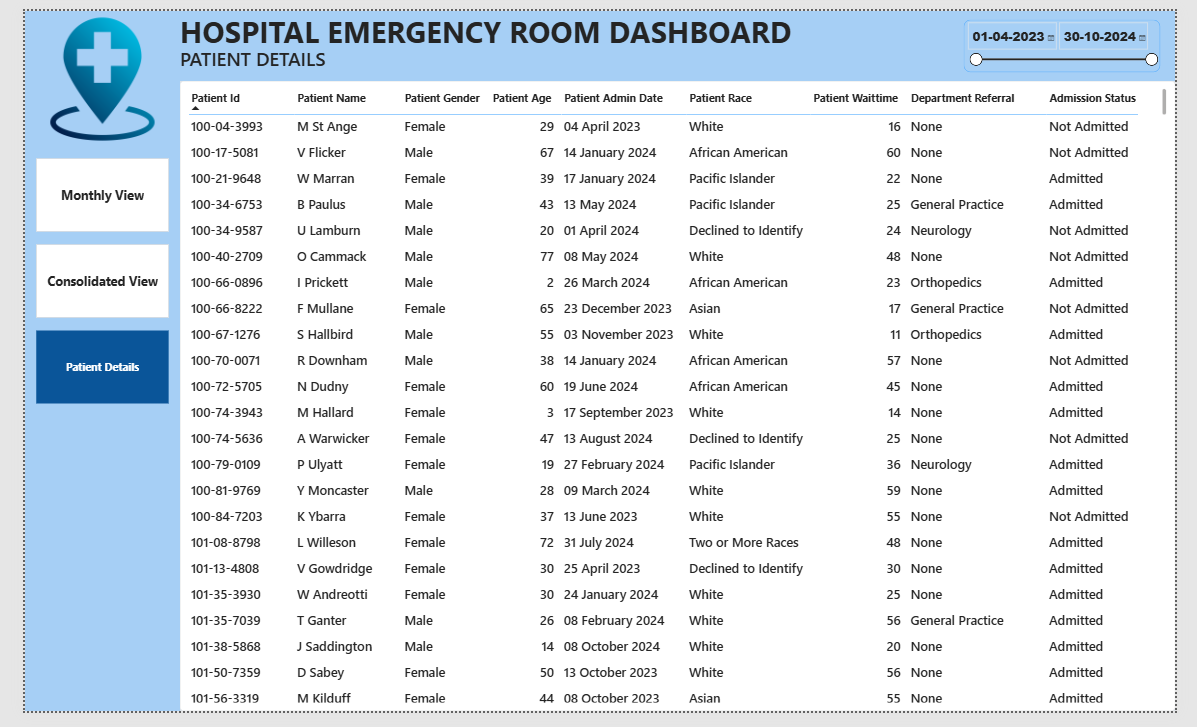

The dashboard page shown, as its layout file describes it:
{"tool":"powerbi","page":{"name":"Patient Details ","canvas":[2300,1400],"ordinal":2},"visuals":[{"type":"shape","box":[0,0,310,1400.5],"z":0},{"type":"shape","box":[309.1,0,1990.2,140],"z":1000},{"type":"textbox","box":[310,0,1245,80],"z":2000},{"type":"textbox","box":[310,70,305,70],"z":3000},{"type":"slicer","fields":{"Values":["Date Table.Date"]},"box":[1877.5,17.5,392.5,105],"z":4000},{"type":"image","box":[22.5,12.5,265,247.5],"z":5000},{"type":"tableEx","fields":{"Values":["Hospital ER_Data.Patient Id","Hospital ER_Data.Patient Full Name ","Hospital ER_Data.Patient Gender","Sum(Hospital ER_Data.Patient Age)","Hospital ER_Data.Patient Admin Date","Hospital ER_Data.Patient Race","Sum(Hospital ER_Data.Patient Waittime)","Hospital ER_Data.Department Referral","Hospital ER_Data.Admission Status"]},"box":[310,140,1990,1260],"z":6000},{"type":"pageNavigator","box":[22.5,295,265,490],"z":6001}]}

Visuals, with their boxes in screenshot pixels (x1, y1, x2, y2), scaled from the page's 2300x1400 canvas onto the 1197x727 screenshot:
shape: box(0, 0, 161, 726)
shape: box(161, 0, 1196, 73)
textbox: box(161, 0, 809, 42)
textbox: box(161, 36, 320, 73)
slicer - Date Table.Date: box(977, 9, 1181, 64)
image: box(12, 6, 150, 135)
tableEx - Hospital ER_Data.Patient Id x Hospital ER_Data.Patient Full Name : box(161, 73, 1196, 726)
pageNavigator: box(12, 153, 150, 408)
